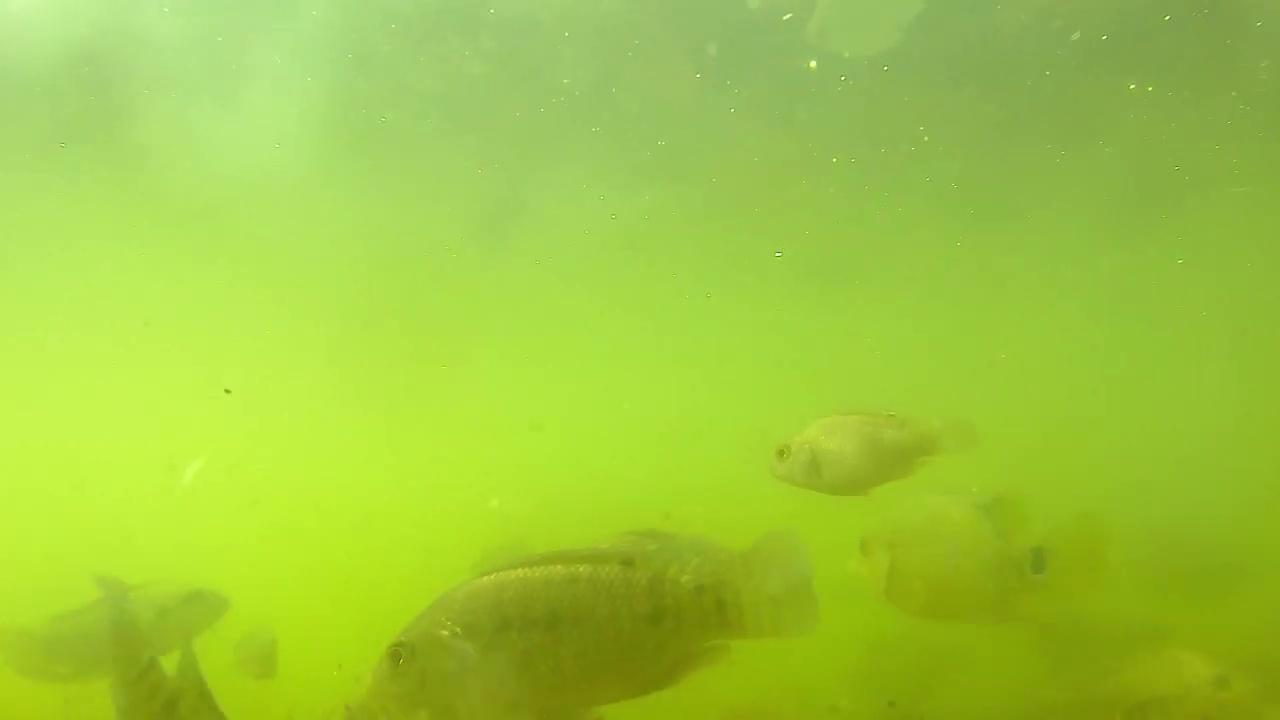Tilapia: (358, 500, 823, 720), (854, 496, 1111, 632), (771, 410, 960, 488)
